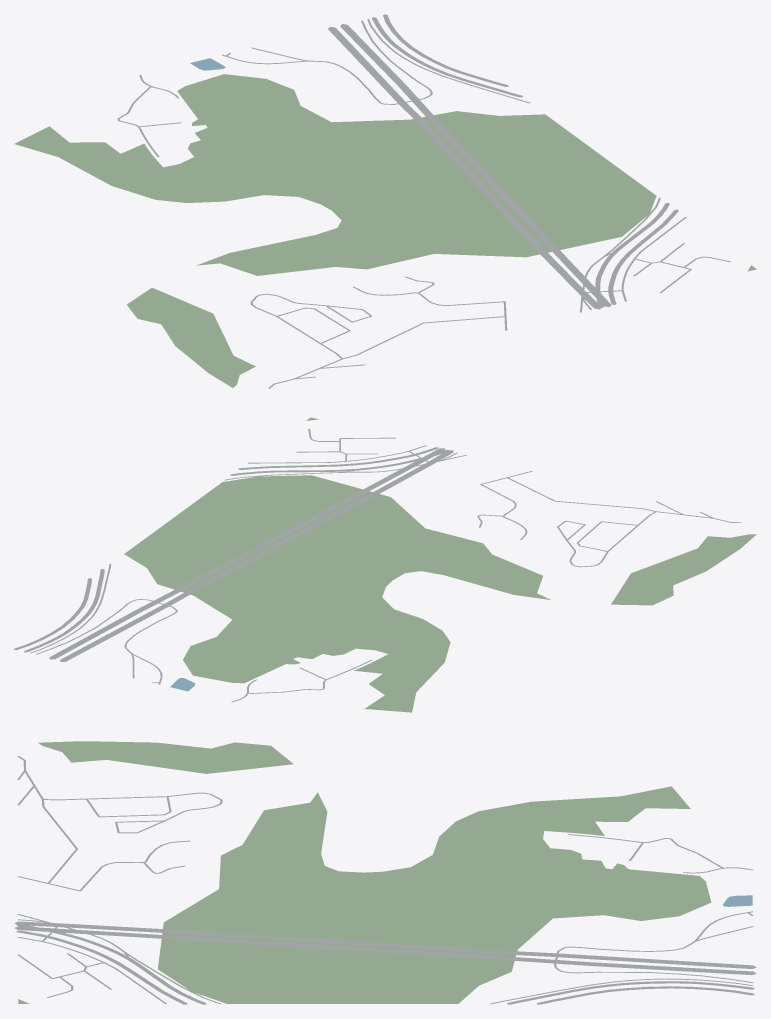
Rendered from -11_6-known-coarse.glb.
3 renders of one model, top to bottom at view 1: azimuth 30°, elevation 25°; view 2: azimuth 150°, elevation 25°; view 3: azimuth 270°, elevation 25°, orthographic. The views are drawn at different scales.
Bounding box in the file's own units: 845 × 0.1 × 1007.
